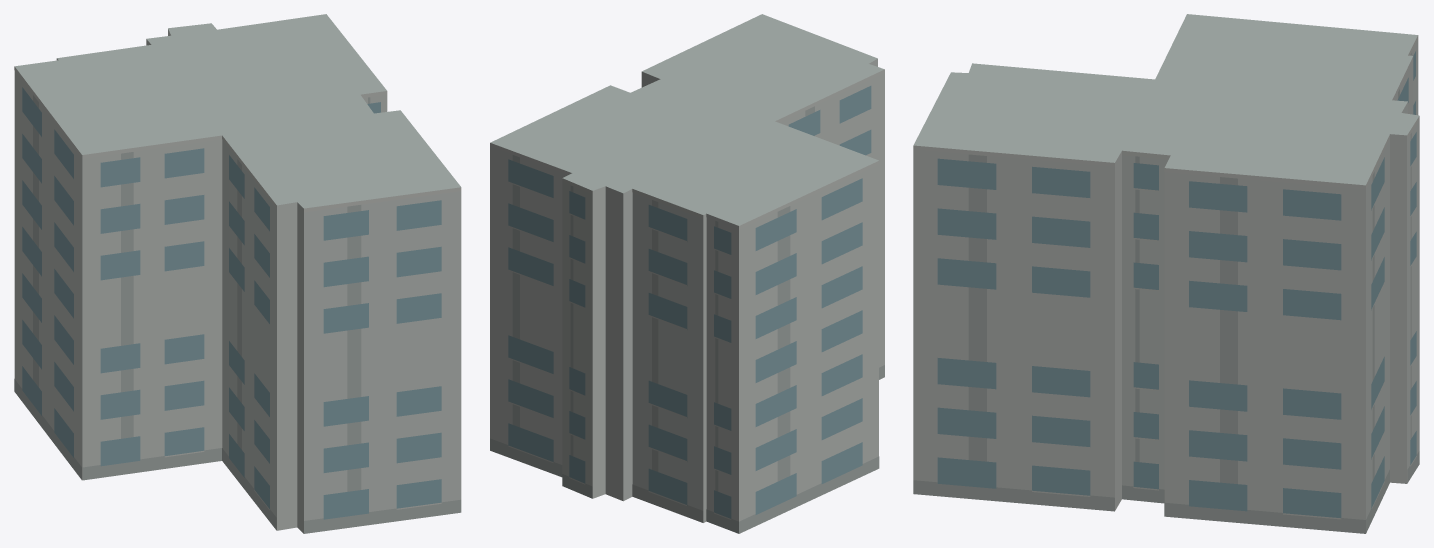
Rendered from survey-upis-32873141.glb.
3 views of the same model, side by side, from view 1: azimuth 30°, elevation 25°; view 2: azimuth 150°, elevation 25°; view 3: azimuth 270°, elevation 25° (orthographic). The views are drawn at different scales.
Visible parts, largest first — view 1: survey-upis-32873141.tmp; view 2: survey-upis-32873141.tmp; view 3: survey-upis-32873141.tmp.
Boxes of the visible parts, left/top/right/bottom form: survey-upis-32873141.tmp: left=14, top=14, right=461, bottom=533; survey-upis-32873141.tmp: left=490, top=14, right=884, bottom=533; survey-upis-32873141.tmp: left=913, top=14, right=1419, bottom=533.
Bounding box in the file's own units: 21.2 × 20.1 × 26.47.
